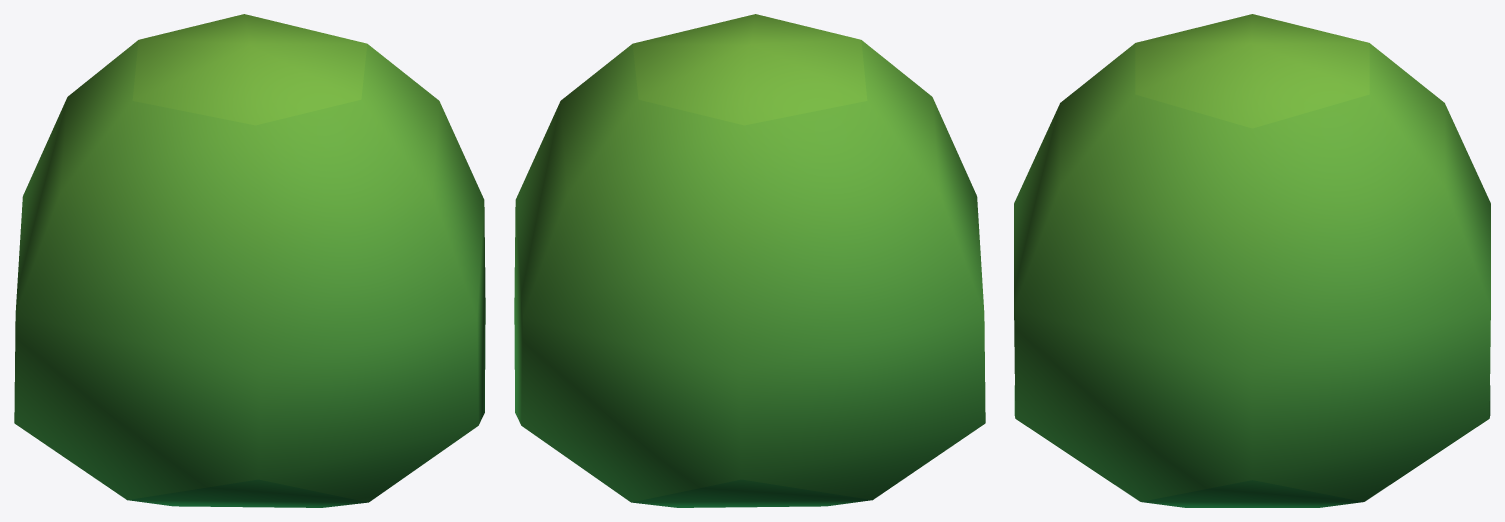
The model's file is kk-bush.glb.
3 renders of one model, left to right at view 1: azimuth 30°, elevation 25°; view 2: azimuth 150°, elevation 25°; view 3: azimuth 270°, elevation 25°, orthographic.
Visible parts, largest first — view 1: Bush_1_A_Color1; view 2: Bush_1_A_Color1; view 3: Bush_1_A_Color1.
Part boxes in pixels (x1,y1,x2,y2): Bush_1_A_Color1: [14, 14, 485, 507]; Bush_1_A_Color1: [514, 14, 985, 507]; Bush_1_A_Color1: [1014, 14, 1490, 507].
Bounding box in the file's own units: 0.2672 × 0.2267 × 0.2341.
Materials: 1 (1 with a texture image).
